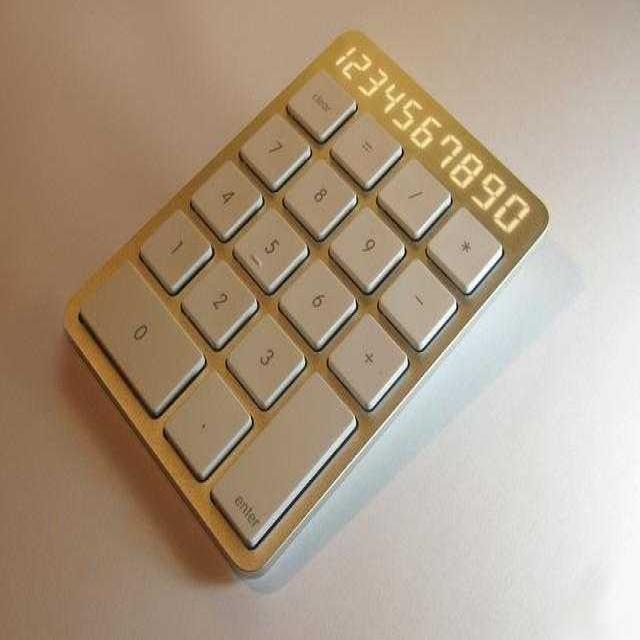Calculator: (62, 26, 550, 579)
